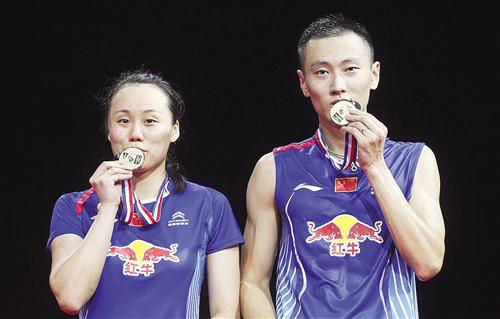face: (307, 32, 374, 121), (107, 85, 169, 170)
